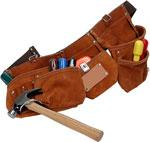hammer: (5, 86, 104, 141)
